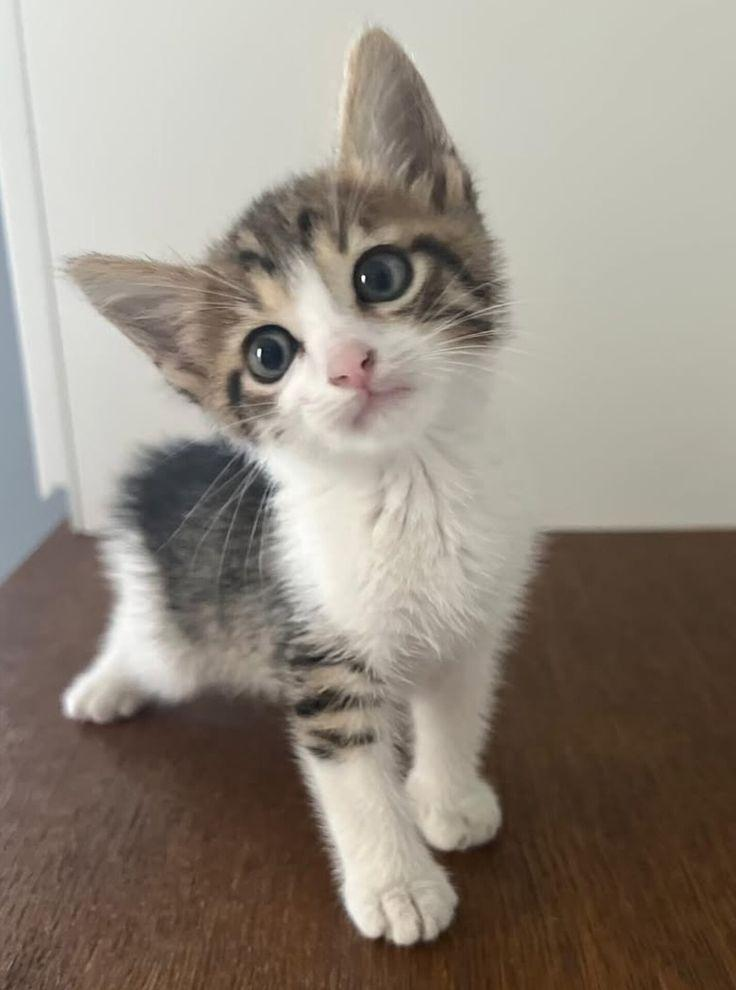rabbit: (63, 30, 532, 943)
